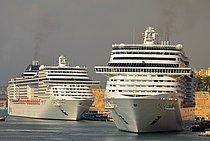Ship: (92, 24, 203, 134), (3, 50, 104, 125)
